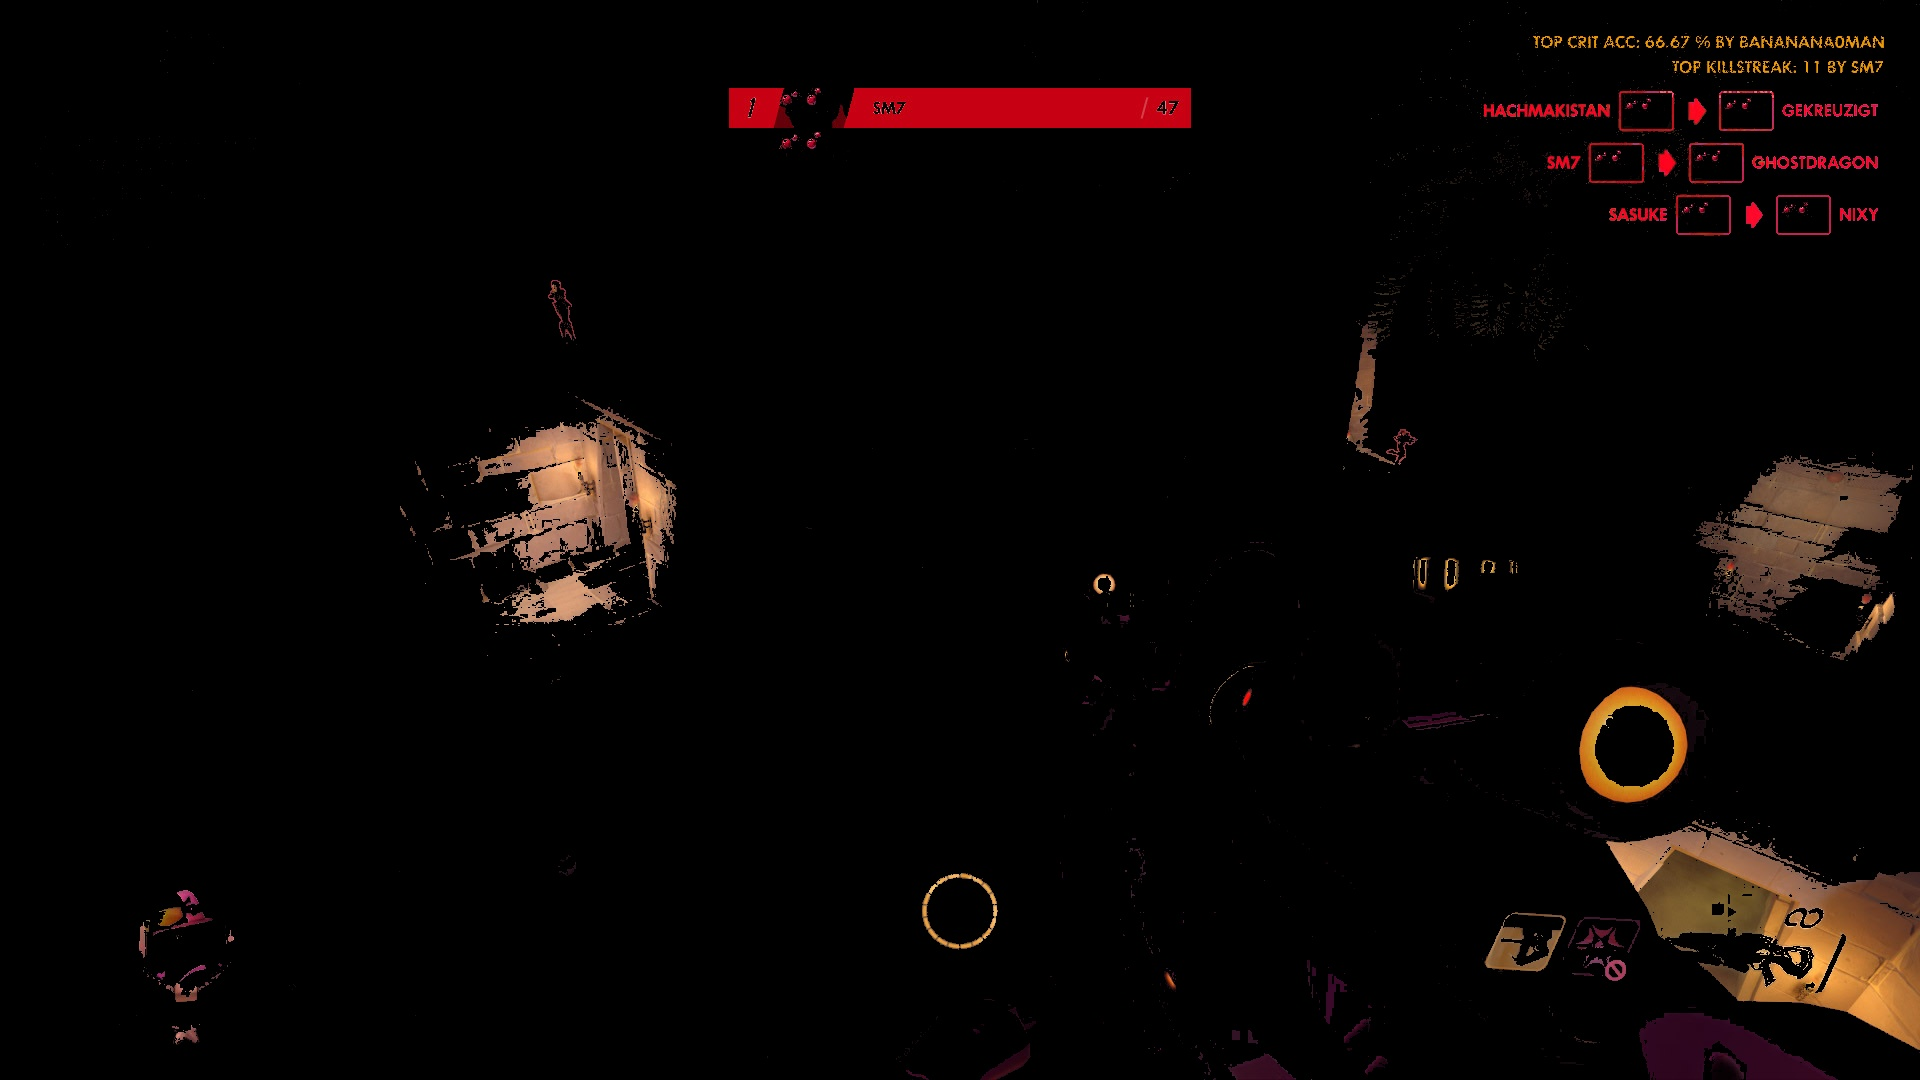widowmaker: (543, 274, 591, 353)
